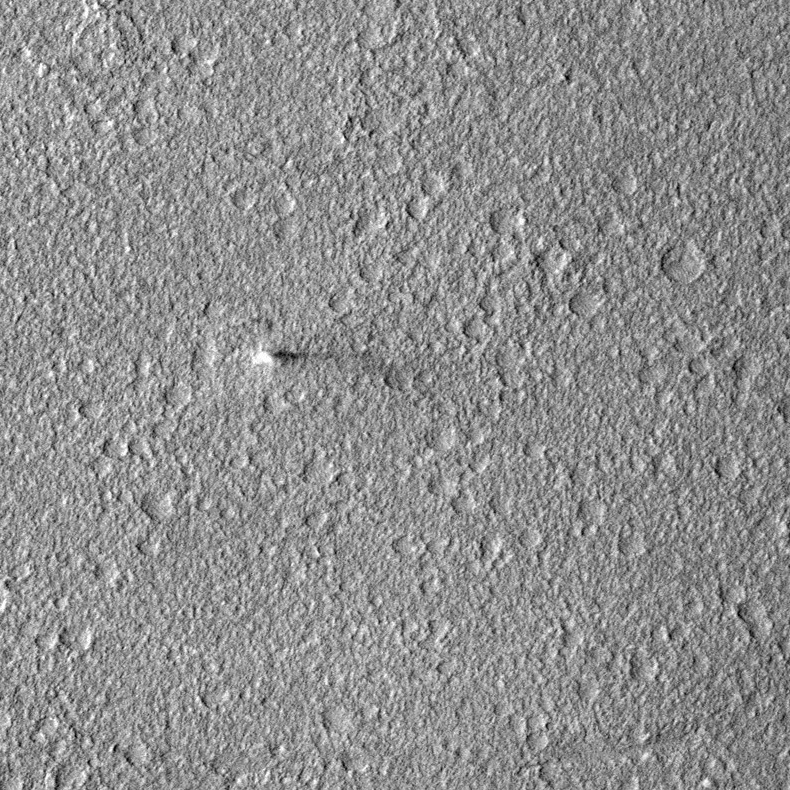dust_devil: (247, 345, 368, 370)
